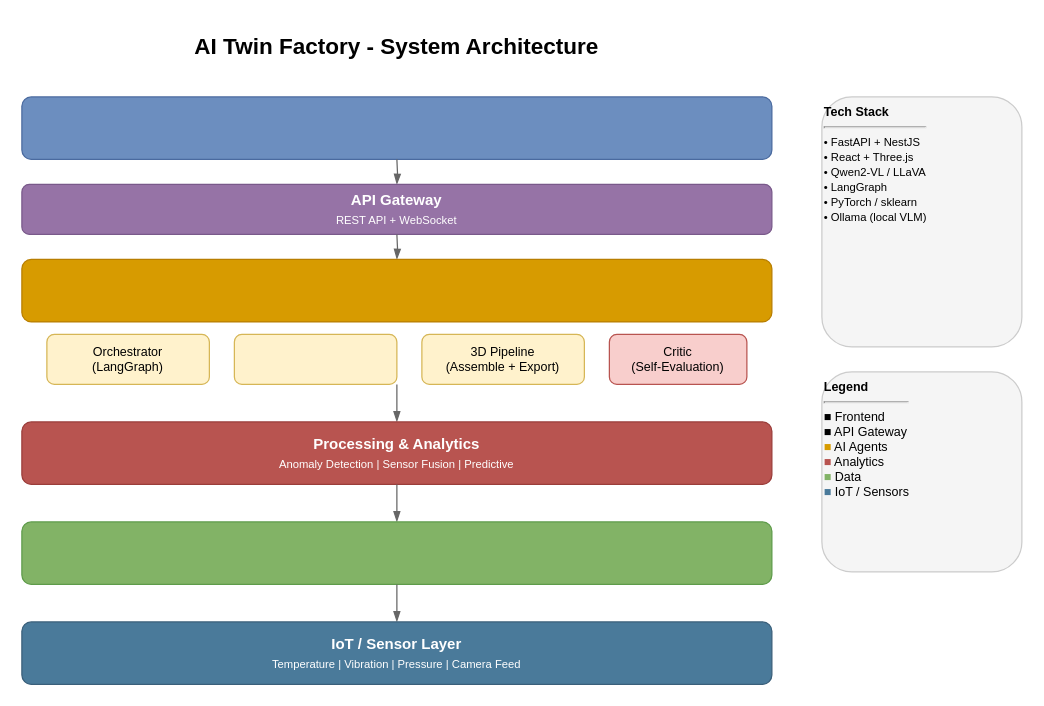
Some shapes in this 1044 by 706 pixel diagram are drawn without their labels. Here are the shapes that lost their labels. From the top down, the box of each, then its label:
(21, 96, 772, 159): Frontend Layer React + Three.js + WebSocket
(21, 258, 772, 322): AI Agent Layer Orchestrator | Vision Pipeline | 3D Pipeline | Critic
(233, 333, 397, 384): Vision Pipeline (VLM + YOLO)
(21, 521, 772, 584): Data Layer PostgreSQL | InfluxDB (Time-series) | Vector DB (Assets)
